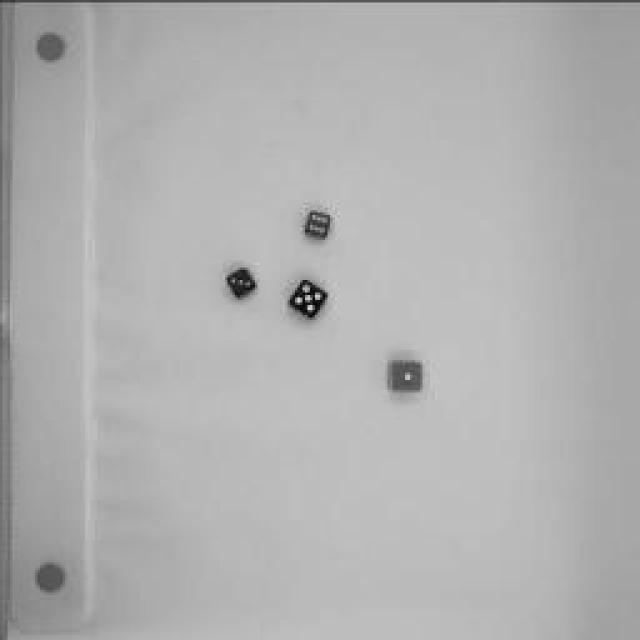dice_1: (380, 349, 432, 399)
dice_3: (221, 260, 261, 302)
dice_5: (284, 275, 336, 325)
dice_6: (299, 206, 336, 242)
